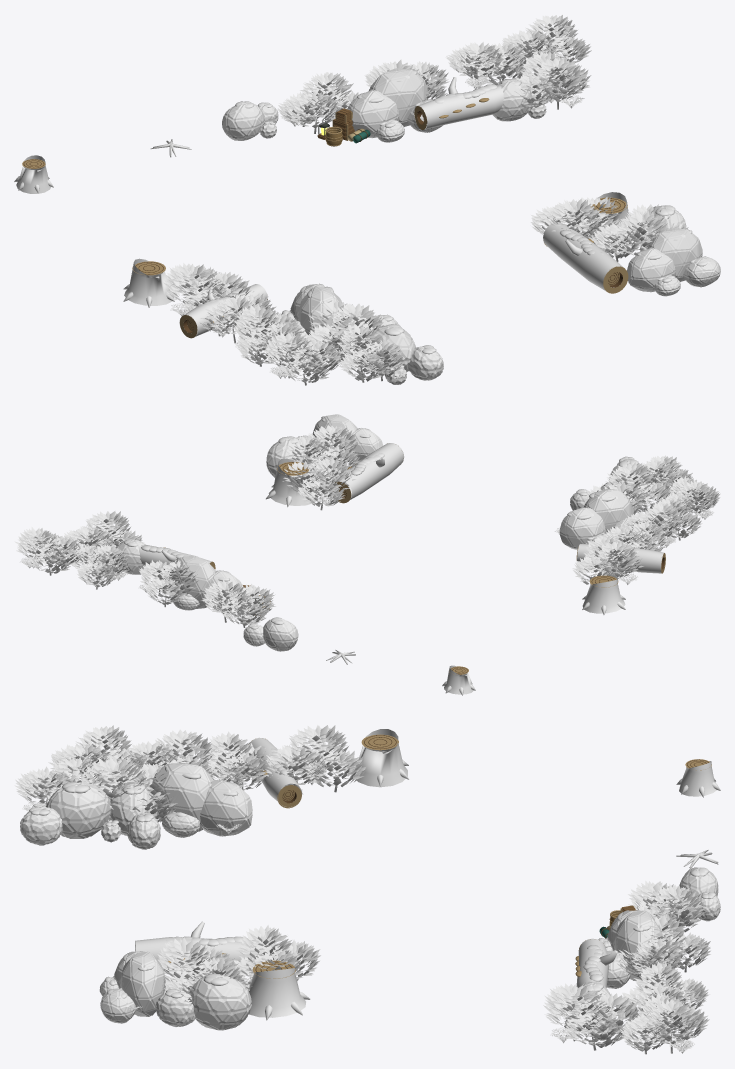
The model's file is SM_DF_Explorer_0_3_Macro.fbx.
The picture shows the model from 3 angles, top to bottom: view 1: azimuth 30°, elevation 25°; view 2: azimuth 150°, elevation 25°; view 3: azimuth 270°, elevation 25°; orthographic projection. The views are drawn at different scales.
Visible parts, largest first — view 1: SM_DF_Explorer_0_3_Macro; view 2: SM_DF_Explorer_0_3_Macro; view 3: SM_DF_Explorer_0_3_Macro.
Part boxes in pixels (x1=…): SM_DF_Explorer_0_3_Macro: x1=14, y1=15, x2=720, y2=385; SM_DF_Explorer_0_3_Macro: x1=14, y1=414, x2=720, y2=695; SM_DF_Explorer_0_3_Macro: x1=14, y1=725, x2=720, y2=1054.
Size of the model in its own units: 2975 by 2799 by 317.
